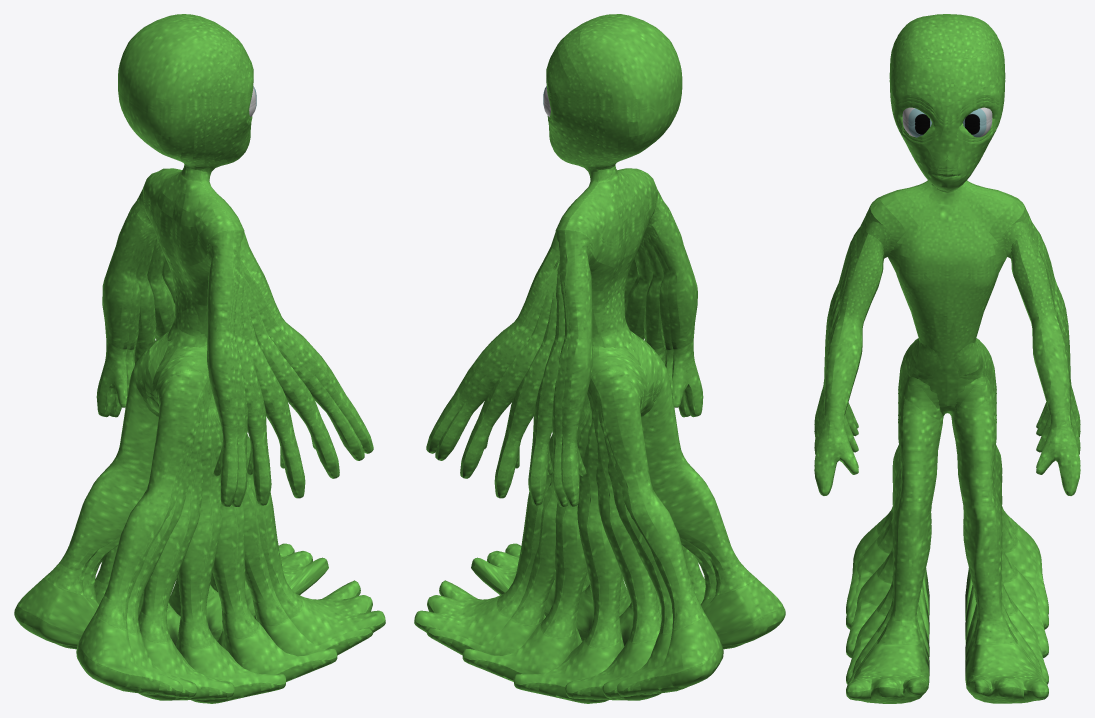
File: ufon.glb
The picture shows the model from 3 angles, left to right: view 1: azimuth 30°, elevation 25°; view 2: azimuth 150°, elevation 25°; view 3: azimuth 270°, elevation 25°; orthographic projection.
Parts seen in each view (by area): view 1: ufon_nohy_ruce_03, ufon_nohy_ruce_09, ufon_nohy_ruce_00, ufon_telo_03, ufon_nohy_ruce_07, ufon_nohy_ruce_01, ufon_telo_00, ufon_nohy_ruce_02, ufon_nohy_ruce_08, ufon_telo_01; view 2: ufon_nohy_ruce_09, ufon_nohy_ruce_03, ufon_nohy_ruce_00, ufon_telo_03, ufon_nohy_ruce_01, ufon_nohy_ruce_07, ufon_telo_00, ufon_nohy_ruce_08, ufon_nohy_ruce_02, ufon_telo_01; view 3: ufon_nohy_ruce_03, ufon_nohy_ruce_09, ufon_telo_03, ufon_telo_00, ufon_nohy_ruce_00, ufon_nohy_ruce_01, ufon_nohy_ruce_07, ufon_nohy_ruce_08, ufon_nohy_ruce_02, ufon_telo_01, ufon_telo_02.
Boxes of the visible parts, x1,y1,x2,y2 form: ufon_nohy_ruce_03: (14,177,385,646); ufon_nohy_ruce_09: (76,168,373,696); ufon_nohy_ruce_00: (138,200,305,703); ufon_telo_03: (118,14,256,314); ufon_nohy_ruce_07: (134,196,339,700); ufon_nohy_ruce_01: (94,199,337,681); ufon_telo_00: (118,79,256,325); ufon_nohy_ruce_02: (55,235,372,656); ufon_nohy_ruce_08: (109,192,364,697); ufon_telo_01: (118,77,256,308); ufon_nohy_ruce_09: (414,193,785,646); ufon_nohy_ruce_03: (426,168,723,696); ufon_nohy_ruce_00: (494,200,661,703); ufon_telo_03: (543,14,682,320); ufon_nohy_ruce_01: (460,196,665,700); ufon_nohy_ruce_07: (462,199,705,681); ufon_telo_00: (543,80,682,313); ufon_nohy_ruce_08: (427,235,744,655); ufon_nohy_ruce_02: (435,192,690,697); ufon_telo_01: (543,77,682,307); ufon_nohy_ruce_03: (814,190,1080,703); ufon_nohy_ruce_09: (814,191,1080,703); ufon_telo_03: (889,14,1005,275); ufon_telo_00: (889,80,1005,339); ufon_nohy_ruce_00: (814,246,1080,684); ufon_nohy_ruce_01: (814,238,1068,689); ufon_nohy_ruce_07: (826,239,1080,689); ufon_nohy_ruce_08: (815,223,1080,700); ufon_nohy_ruce_02: (814,223,1079,700); ufon_telo_01: (889,76,1005,279); ufon_telo_02: (890,85,1004,276).
Size of the model in its own units: 0.6623 by 1.41 by 0.5243.
2 materials, 2 textured.
